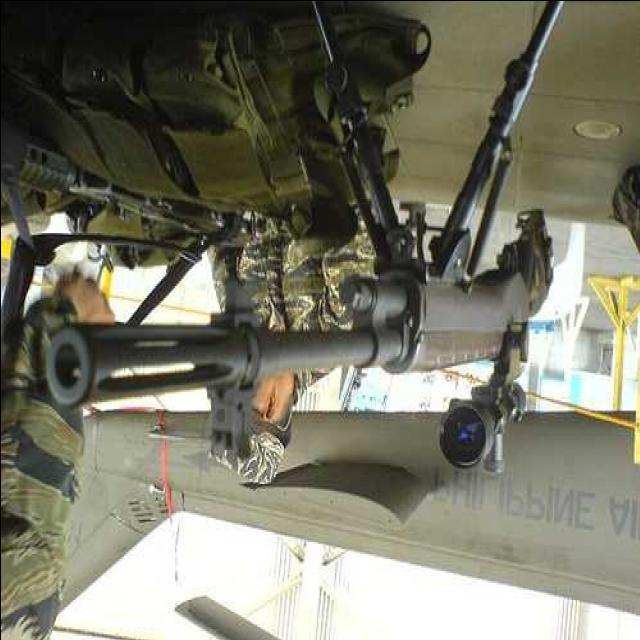heavyweapon: (49, 131, 609, 495)
